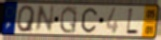4: (105, 6, 121, 36)
C: (80, 6, 98, 34)
L: (125, 7, 140, 37)
N: (33, 5, 56, 34)
Q: (16, 4, 37, 34), (59, 5, 78, 35)
